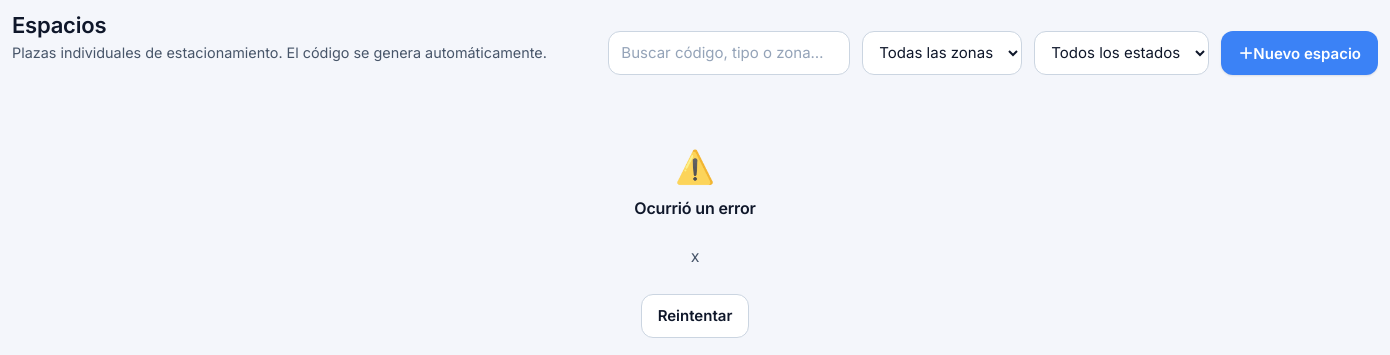
Test: EspaciosPage › error con reintento
Expected: the heading "Ocurrió un error" is shown, [634, 198, 756, 218]
Step 1. Click the button "Reintentar" → (695, 316), box [641, 294, 749, 338]
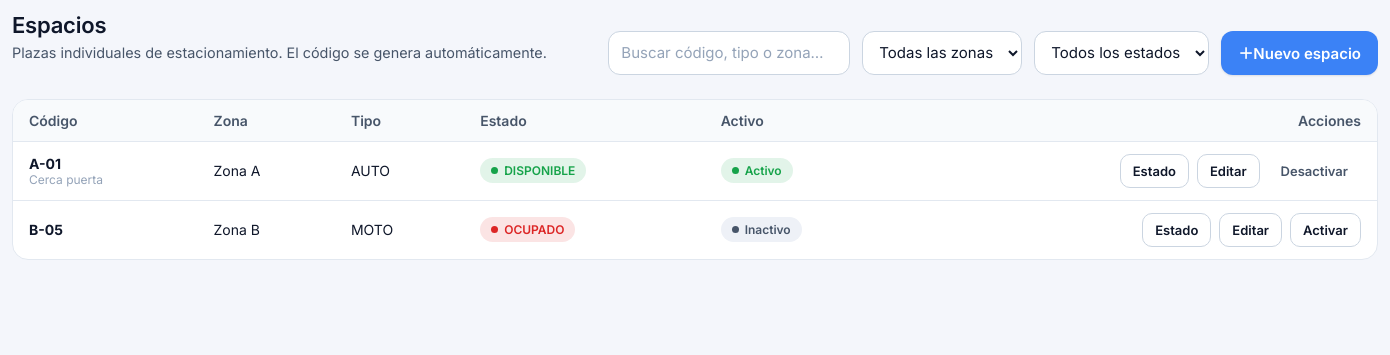
Now the text "A-01" is shown, box [29, 155, 61, 172]
